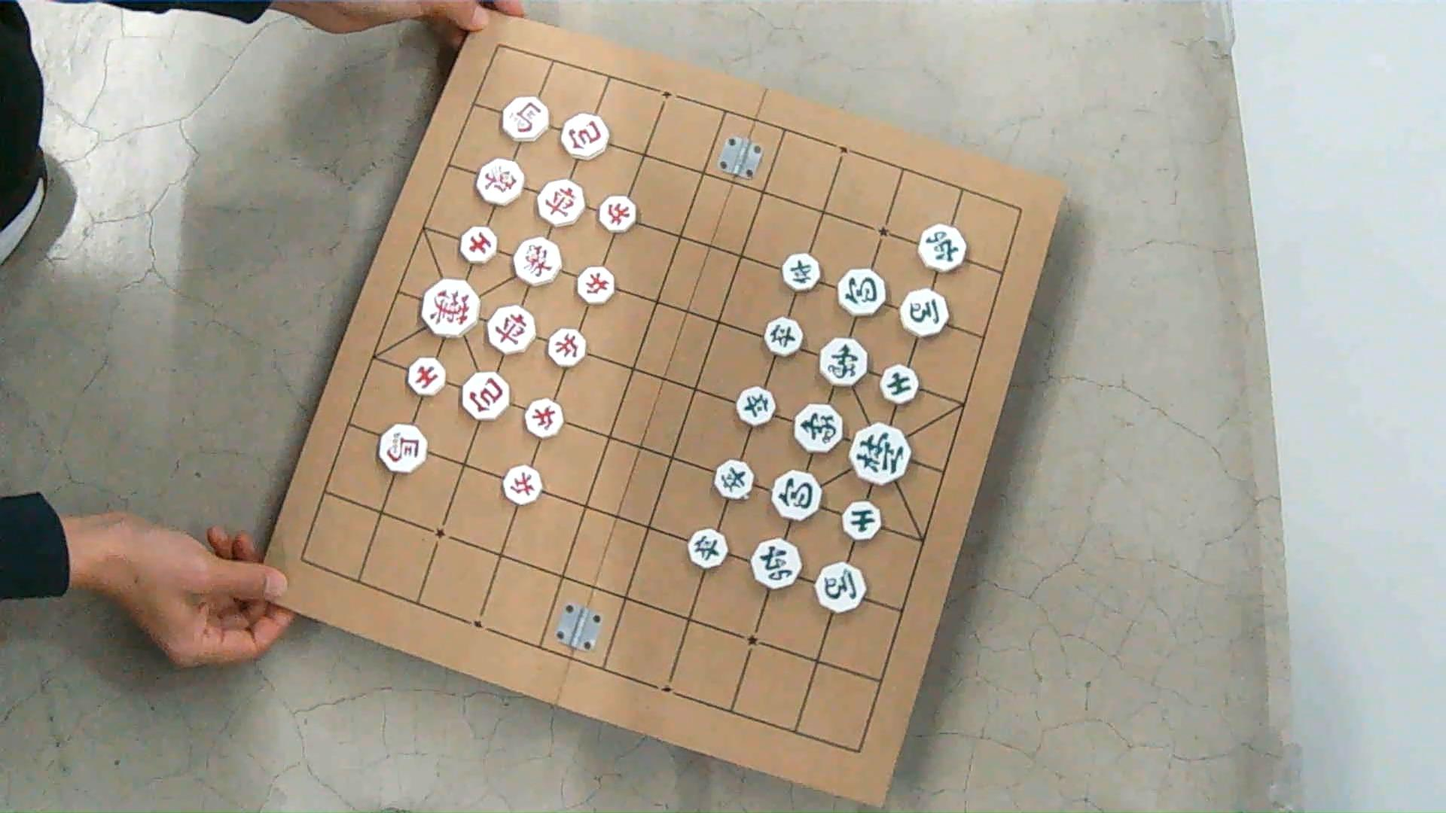cha_green: (752, 539, 801, 589), (918, 224, 966, 272)
cha_red: (487, 306, 534, 353), (537, 180, 584, 226)
jol_green: (687, 528, 728, 568), (715, 460, 753, 499), (782, 252, 820, 291), (764, 317, 802, 356), (736, 387, 774, 426)
jol_red: (502, 465, 541, 504), (524, 399, 562, 438), (548, 329, 585, 367), (576, 266, 614, 303), (599, 196, 636, 233)
ma_green: (816, 563, 864, 612), (901, 289, 948, 336)
ma_red: (378, 425, 426, 473), (501, 97, 549, 142)
po_green: (771, 470, 821, 520), (838, 268, 885, 316)
po_red: (462, 372, 508, 419), (561, 114, 608, 159)
sa_green: (880, 365, 919, 404), (842, 501, 880, 541)
sa_red: (407, 358, 444, 396), (460, 226, 496, 263)
sang_green: (820, 338, 867, 386), (795, 404, 842, 452)
sang_red: (514, 237, 560, 285), (477, 159, 523, 205)
wang_green: (850, 424, 909, 485)
wang_red: (422, 279, 478, 337)
